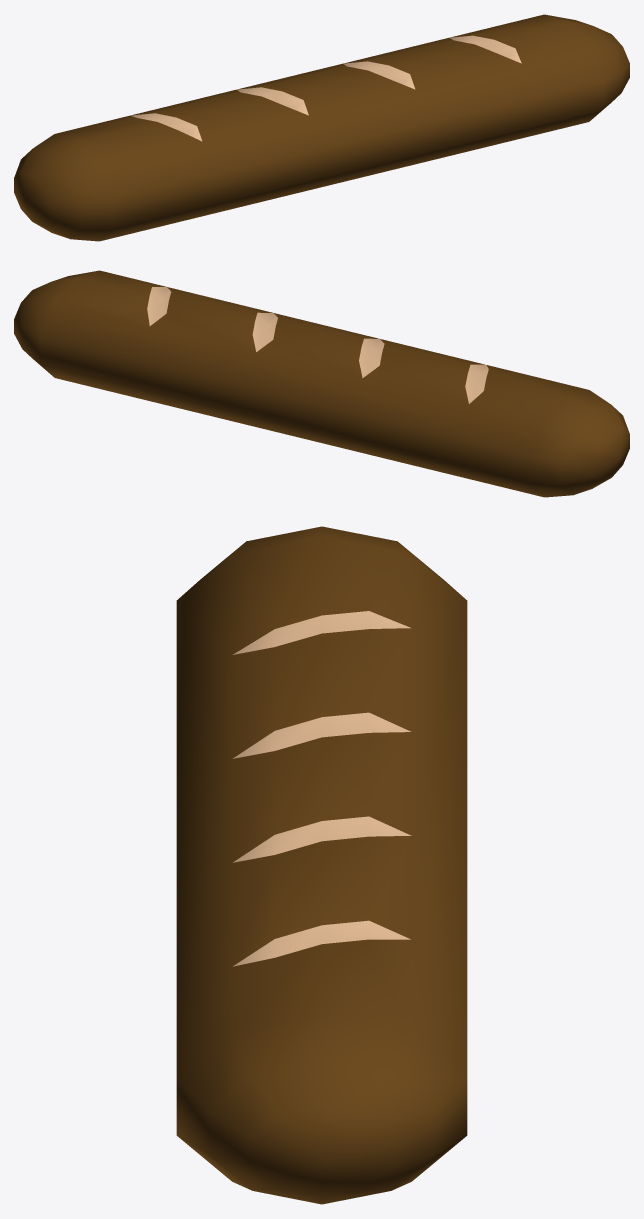
The model's file is baguette.fbx.
3 views of the same model, one above another, from view 1: azimuth 30°, elevation 25°; view 2: azimuth 150°, elevation 25°; view 3: azimuth 270°, elevation 25° (orthographic). The views are drawn at different scales.
Visible parts, largest first — view 1: Baguette; view 2: Baguette; view 3: Baguette.
Part boxes in pixels (<box>): Baguette: <box>14,14,629,241</box>; Baguette: <box>14,270,629,497</box>; Baguette: <box>176,526,467,1204</box>.
Bounding box in the file's own units: 27.08 × 4 × 5.71.
